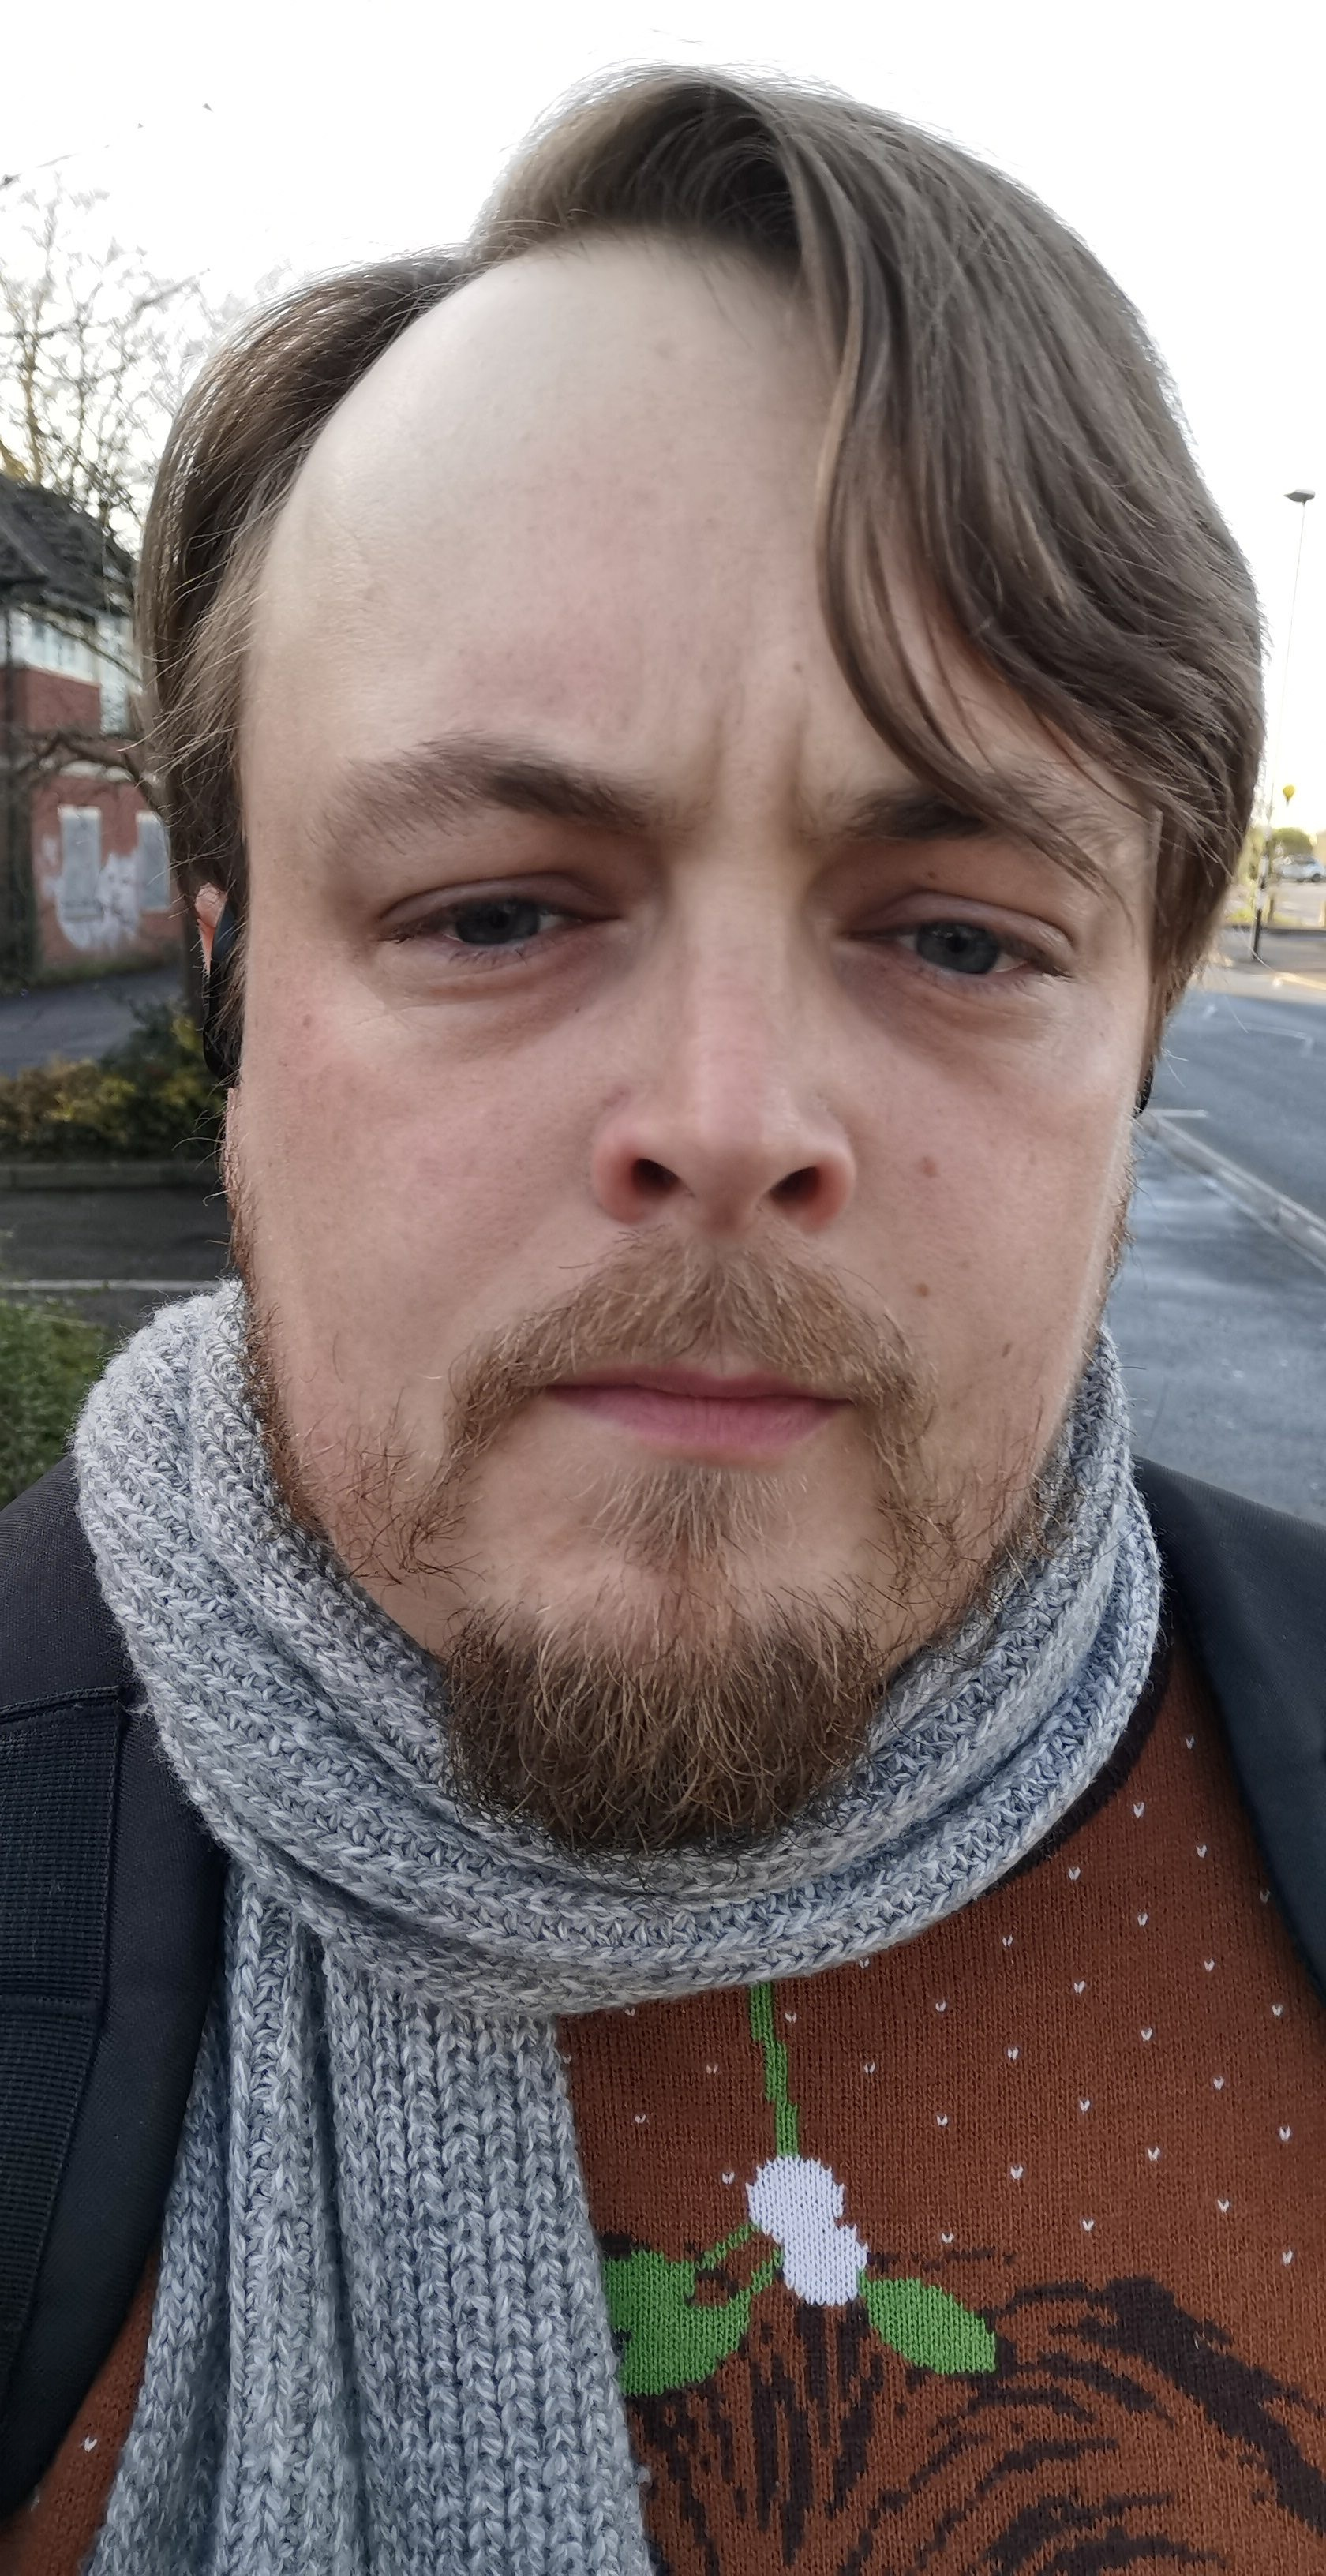face_no_mask: (169, 102, 1257, 1822)
